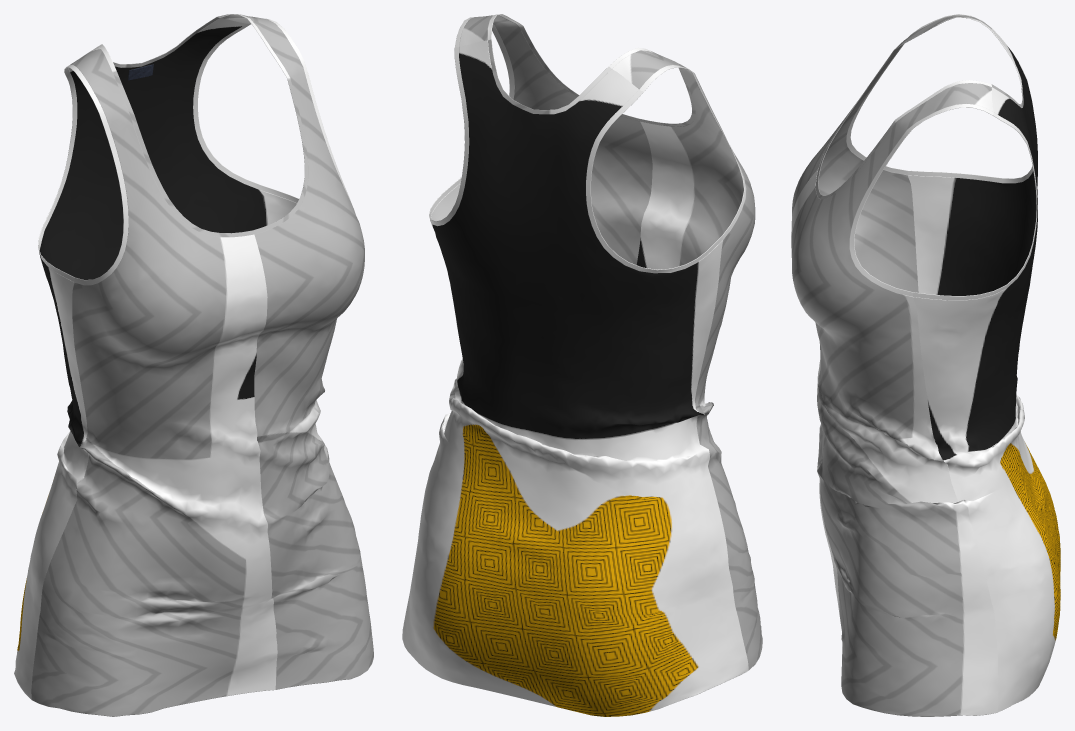
Rendered from 3Angle.fbx.
3 views of the same model, side by side, from view 1: azimuth 30°, elevation 25°; view 2: azimuth 150°, elevation 25°; view 3: azimuth 270°, elevation 25° (orthographic). The views are drawn at different scales.
Parts seen in each view (by area): view 1: 3Angle; view 2: 3Angle; view 3: 3Angle.
Boxes of the visible parts, x1,y1,x2,y2 form: 3Angle: (14, 14, 373, 716); 3Angle: (402, 14, 762, 716); 3Angle: (791, 14, 1060, 716).
Size of the model in its own units: 34.86 by 64.42 by 26.18.
